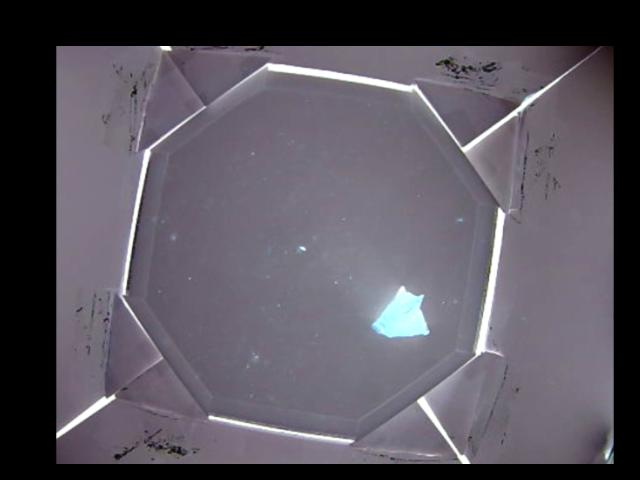Brisk: (370, 285, 429, 337)
